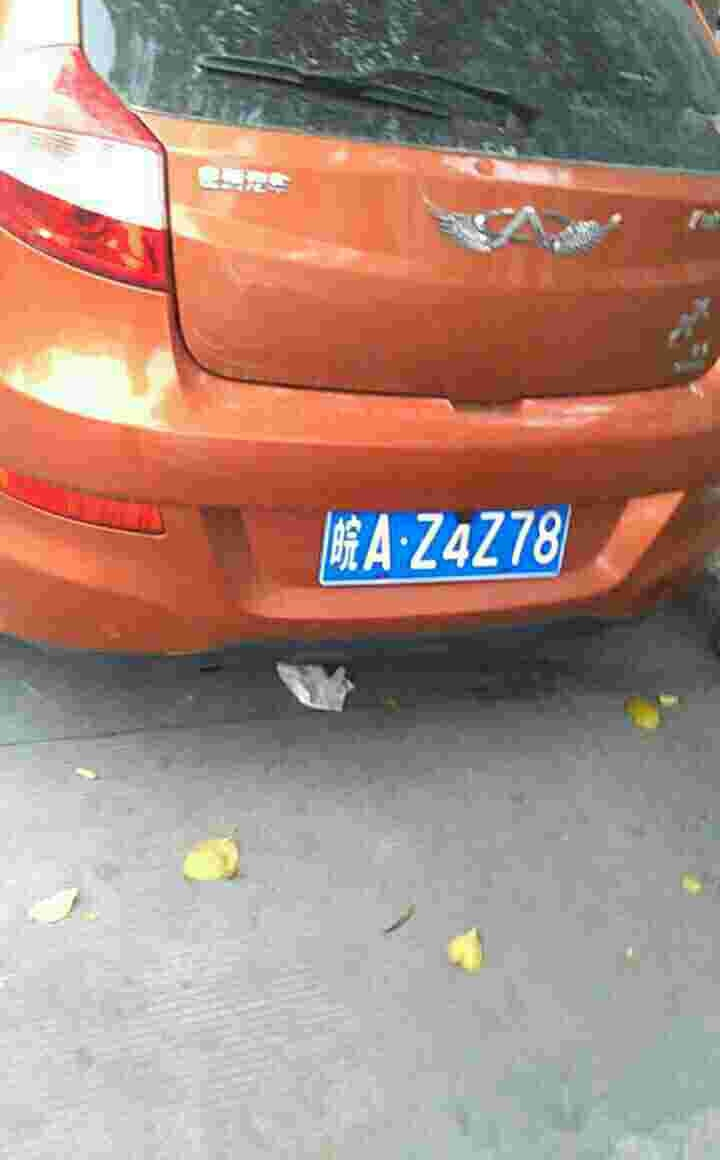license_plate: (319, 505, 583, 584)
